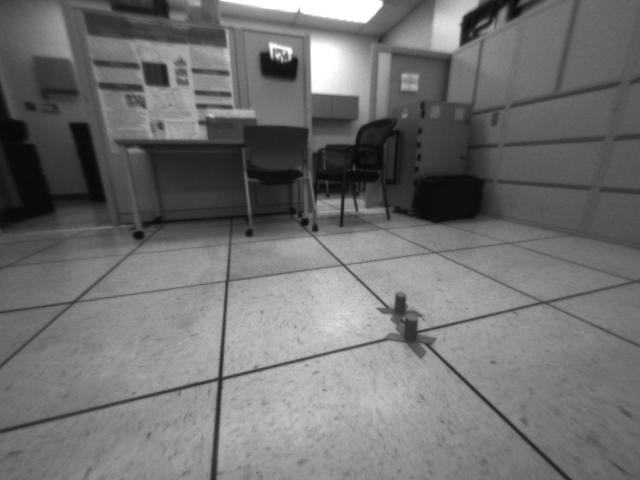X: (383, 313, 438, 360), (377, 291, 425, 326)
